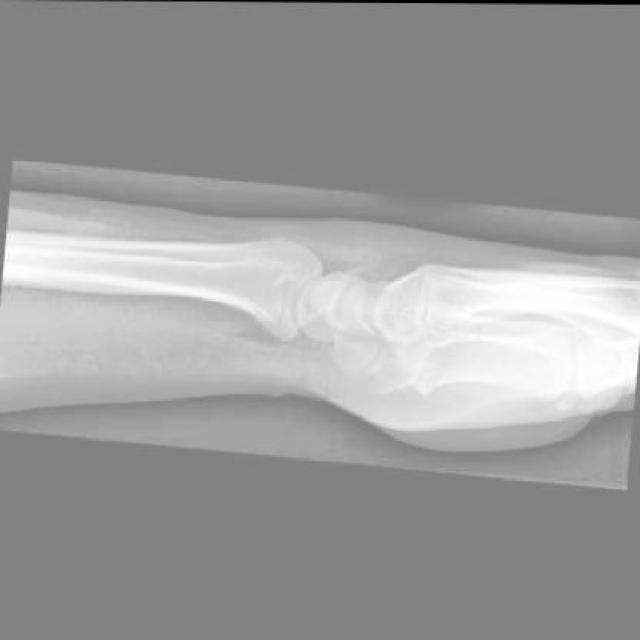Fracture: (342, 257, 368, 280)
